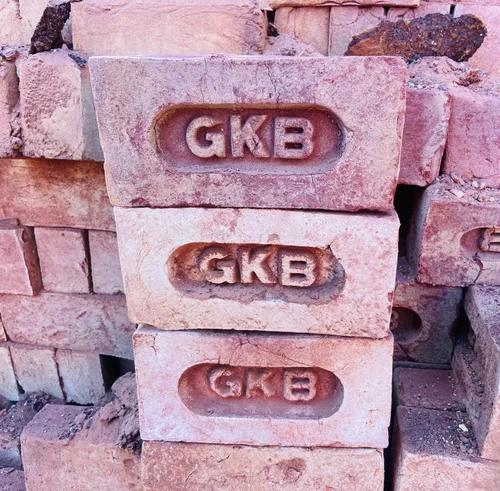brick: (91, 54, 405, 210), (115, 213, 401, 337), (136, 334, 391, 444), (143, 446, 385, 490), (69, 3, 264, 52), (4, 289, 129, 350), (1, 159, 105, 229), (418, 201, 499, 289), (20, 48, 78, 158), (21, 443, 135, 490), (36, 228, 86, 290), (10, 350, 59, 406), (60, 351, 101, 405)
